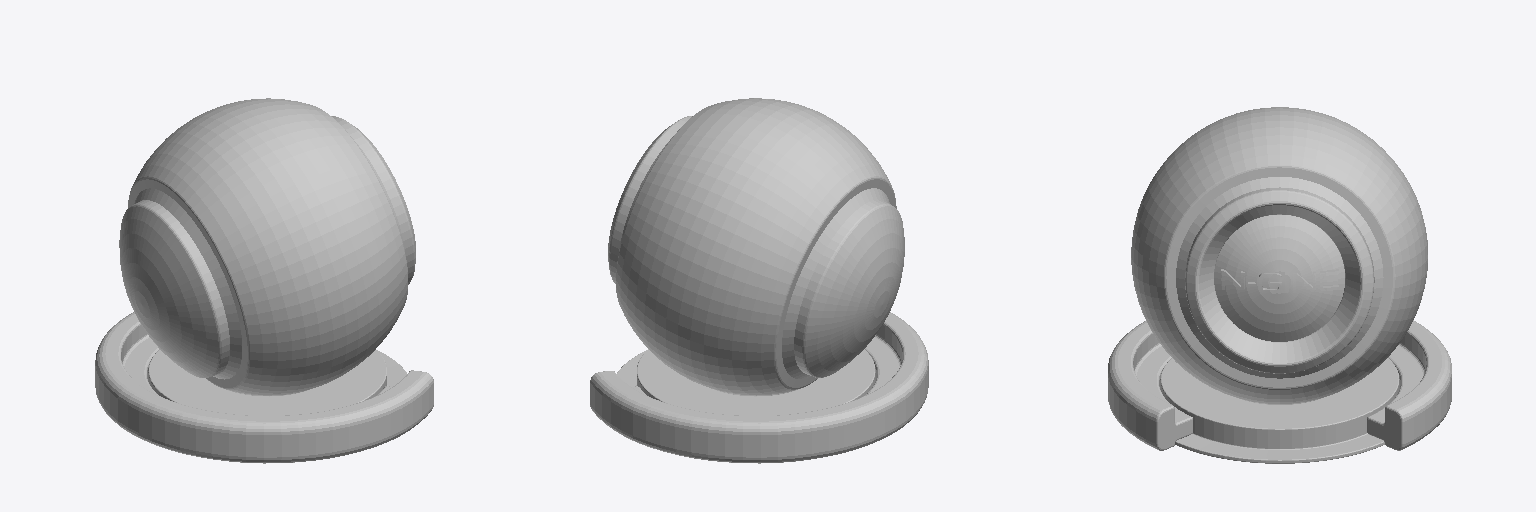
The model's file is JM_MaterialPreview_01 - Copy.obj.
3 views of the same model, side by side, from view 1: azimuth 30°, elevation 25°; view 2: azimuth 150°, elevation 25°; view 3: azimuth 270°, elevation 25° (orthographic).
Visible parts, largest first — view 1: Sphere.002_Sphere.000, Plane.007, Circle.002; view 2: Sphere.002_Sphere.000, Plane.007, Circle.002; view 3: Sphere.002_Sphere.000, Circle.002, Plane.007.
Boxes of the visible parts, x1,y1,x2,y2 form: Sphere.002_Sphere.000: [119, 98, 415, 395]; Plane.007: [95, 312, 433, 463]; Circle.002: [148, 349, 406, 415]; Sphere.002_Sphere.000: [608, 98, 904, 395]; Plane.007: [590, 312, 928, 463]; Circle.002: [617, 349, 875, 415]; Sphere.002_Sphere.000: [1131, 107, 1427, 403]; Circle.002: [1160, 358, 1399, 463]; Plane.007: [1108, 320, 1451, 450].
Bounding box in the file's own units: 2.14 × 2.09 × 2.32.